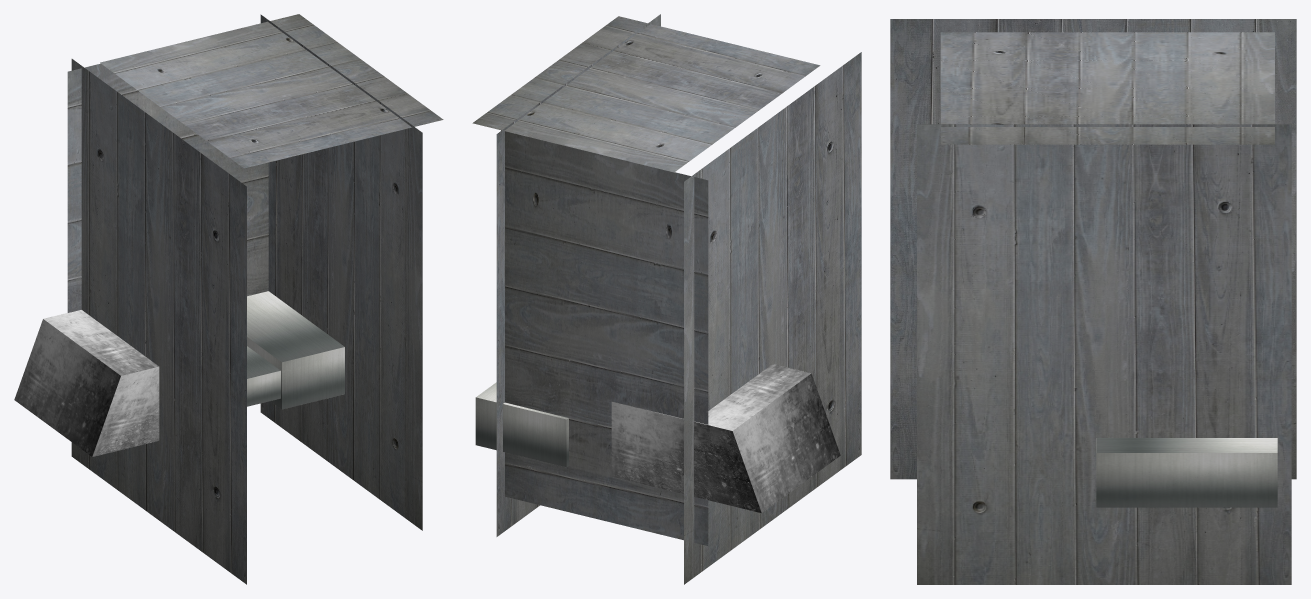
File: serectStage.fbx
The picture shows the model from 3 angles, left to right: view 1: azimuth 30°, elevation 25°; view 2: azimuth 150°, elevation 25°; view 3: azimuth 270°, elevation 25°; orthographic projection. The views are drawn at different scales.
Parts seen in each view (by area): view 1: Plane003, Plane002, Plane004, Box002, Plane001, Box001, Box003; view 2: Plane001, Plane003, Plane004, Box002, Plane002, Box001; view 3: Plane002, Plane004, Plane003, Box001.
Boxes of the visible parts, <box> form: Plane003: <box>71,59,246,584</box>; Plane002: <box>260,14,422,530</box>; Plane004: <box>100,14,443,168</box>; Box002: <box>14,310,159,456</box>; Plane001: <box>67,63,268,312</box>; Box001: <box>247,291,344,409</box>; Box003: <box>247,346,280,406</box>; Plane001: <box>501,130,708,545</box>; Plane003: <box>684,52,861,584</box>; Plane004: <box>472,16,820,172</box>; Box002: <box>611,364,840,513</box>; Plane002: <box>496,14,660,536</box>; Box001: <box>475,382,568,467</box>; Plane002: <box>917,124,1291,584</box>; Plane004: <box>940,32,1274,144</box>; Plane003: <box>890,19,1296,479</box>; Box001: <box>1096,438,1277,507</box>.
Size of the model in its own units: 1600 by 1705 by 2133.
